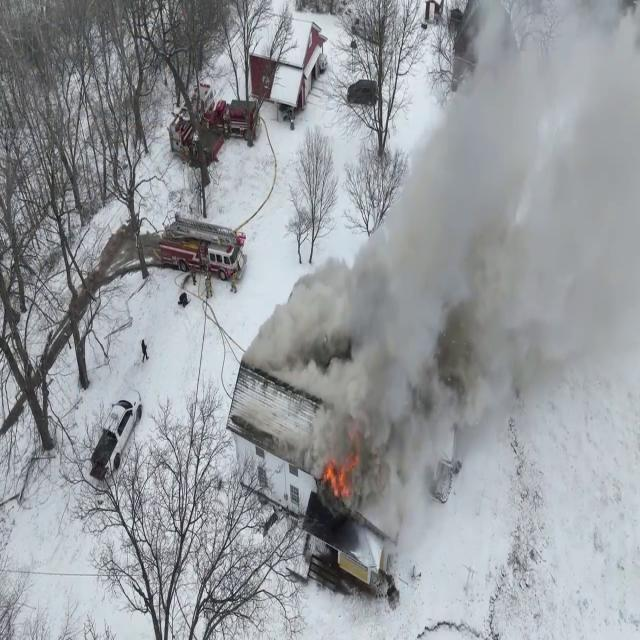Fire: (321, 440, 364, 506)
Smoke: (316, 2, 639, 630)
